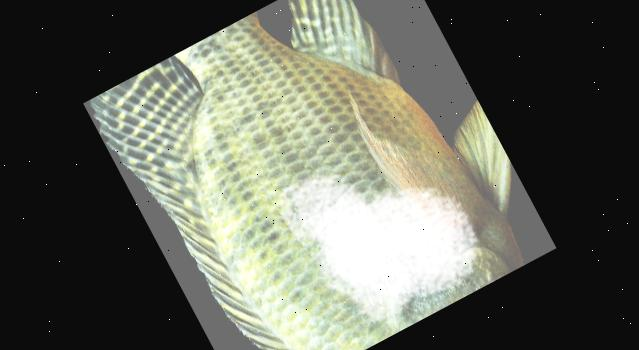Fungal Disease -Saprolegniasis-: (90, 0, 524, 350), (90, 0, 523, 350)
